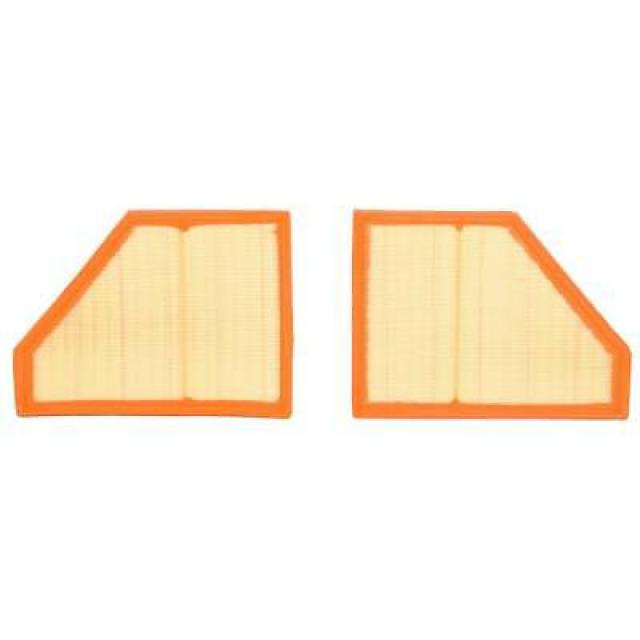air_filter: (339, 199, 634, 432), (8, 200, 302, 424)
